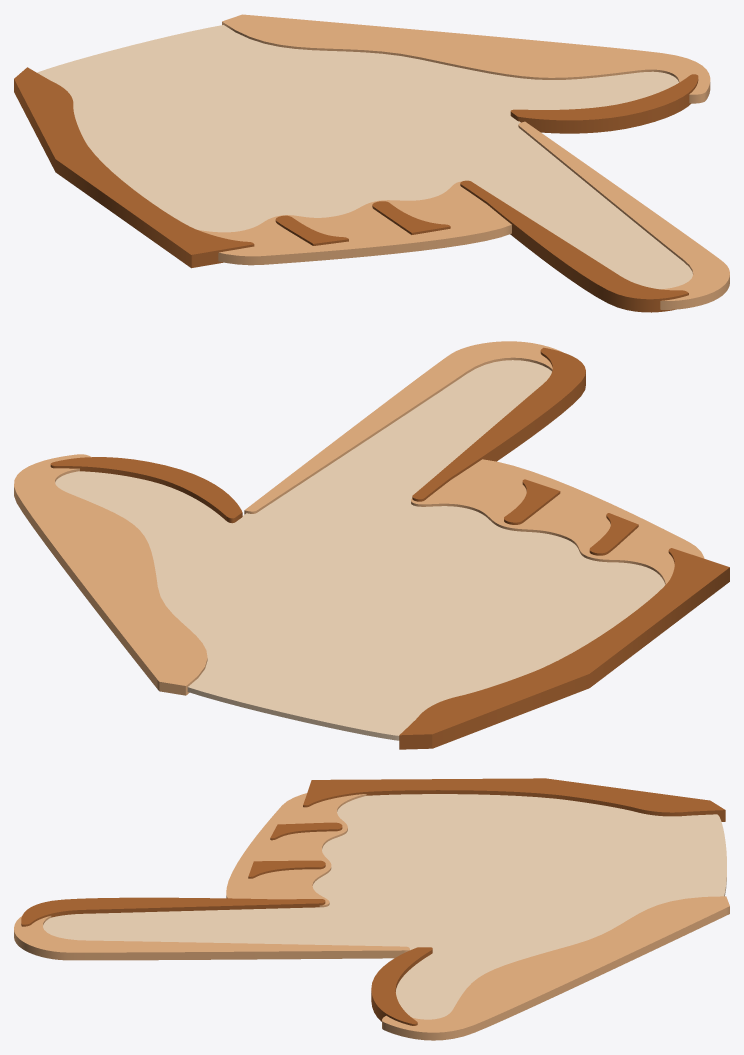
The model's file is emoji_u1f447_1f3fb.glb.
3 renders of one model, top to bottom at view 1: azimuth 30°, elevation 25°; view 2: azimuth 150°, elevation 25°; view 3: azimuth 270°, elevation 25°, orthographic. The views are drawn at different scales.
Visible parts, largest first — view 1: emoji_u1f447_1f3fb; view 2: emoji_u1f447_1f3fb; view 3: emoji_u1f447_1f3fb.
Boxes of the visible parts, x1,y1,x2,y2 form: emoji_u1f447_1f3fb: (14,14,729,312); emoji_u1f447_1f3fb: (14,341,729,749); emoji_u1f447_1f3fb: (14,778,729,1040).
Bounding box in the file's own units: 0.0276 × 0.0006 × 0.0331.
